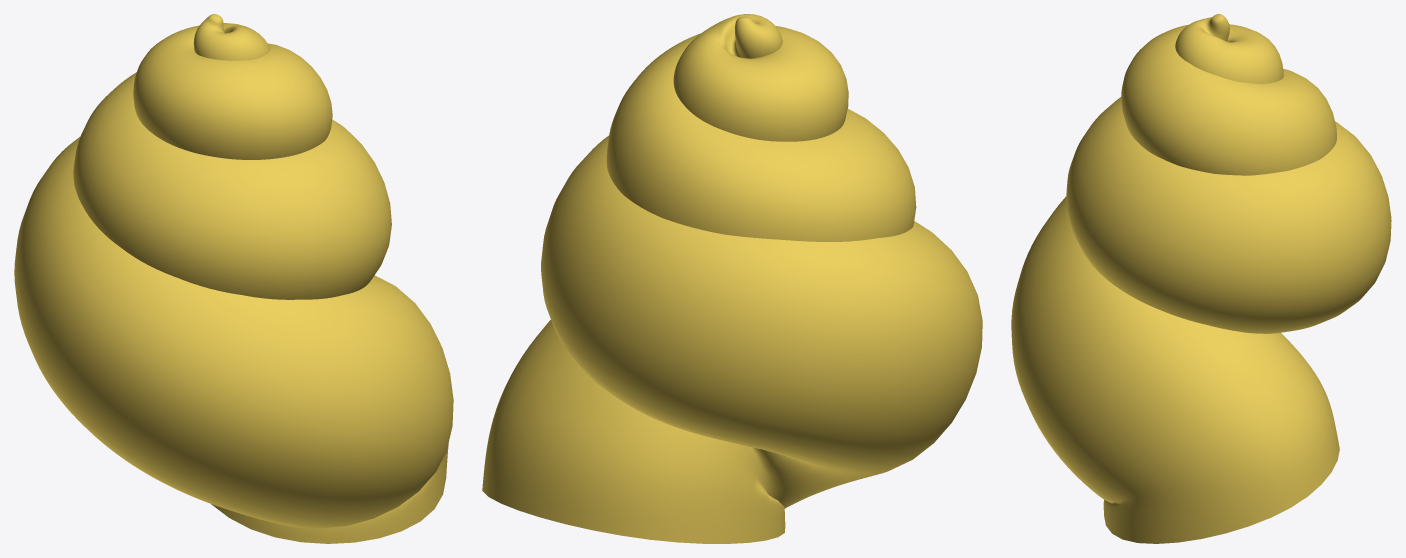
Rendered from conch.glb.
3 views of the same model, side by side, from view 1: azimuth 30°, elevation 25°; view 2: azimuth 150°, elevation 25°; view 3: azimuth 270°, elevation 25° (orthographic). The views are drawn at different scales.
Visible parts, largest first — view 1: 海螺; view 2: 海螺; view 3: 海螺.
Part boxes in pixels (x1,y1,x2,y2): 海螺: (14, 14, 453, 543); 海螺: (482, 14, 982, 543); 海螺: (1011, 14, 1391, 543).
Size of the model in its own units: 1.97 by 2.39 by 1.81.
